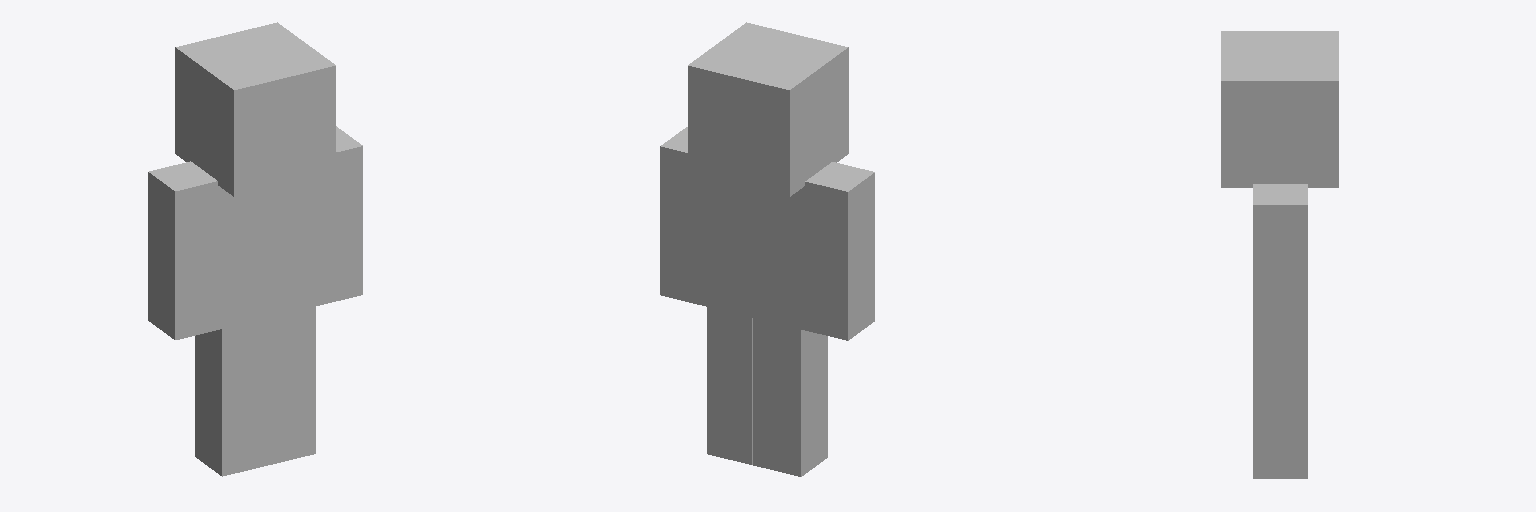
File: character.obj
The picture shows the model from 3 angles: view 1: azimuth 30°, elevation 25°; view 2: azimuth 150°, elevation 25°; view 3: azimuth 270°, elevation 25°; orthographic projection.
Visible parts, largest first — view 1: hair, body, Rarm, Rleg, Larm, Lleg; view 2: hair, body, Rarm, Rleg, Larm, Lleg; view 3: hair, Larm, Lleg.
Part boxes in pixels (x1,y1,x2,y2): hair: (175, 22, 335, 196); body: (222, 177, 315, 328); Rarm: (148, 161, 221, 339); Rleg: (195, 317, 270, 476); Larm: (316, 126, 362, 305); Lleg: (271, 306, 315, 464); hair: (688, 22, 848, 196); body: (707, 177, 800, 329); Rarm: (801, 162, 874, 340); Rleg: (753, 318, 827, 476); Larm: (660, 127, 706, 306); Lleg: (707, 307, 752, 464); hair: (1221, 31, 1338, 187); Larm: (1253, 184, 1307, 353); Lleg: (1253, 354, 1307, 478).
Size of the model in its own units: 8.75 by 17.75 by 4.75.